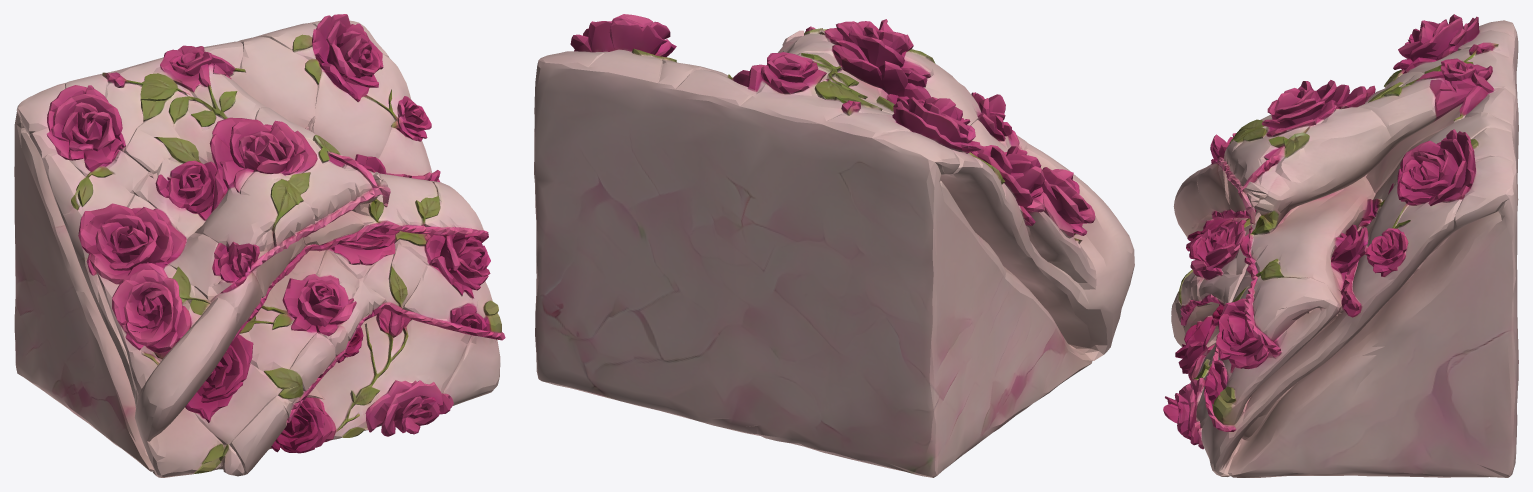
File: quilt.glb
3 views of the same model, side by side, from view 1: azimuth 30°, elevation 25°; view 2: azimuth 150°, elevation 25°; view 3: azimuth 270°, elevation 25° (orthographic). The views are drawn at different scales.
Visible parts, largest first — view 1: model; view 2: model; view 3: model.
Boxes of the visible parts, x1,y1,x2,y2 form: model: [14, 14, 505, 477]; model: [534, 14, 1134, 477]; model: [1163, 14, 1518, 477].
Bounding box in the file's own units: 1.9 × 1.52 × 1.49.
1 material, 1 textured.
